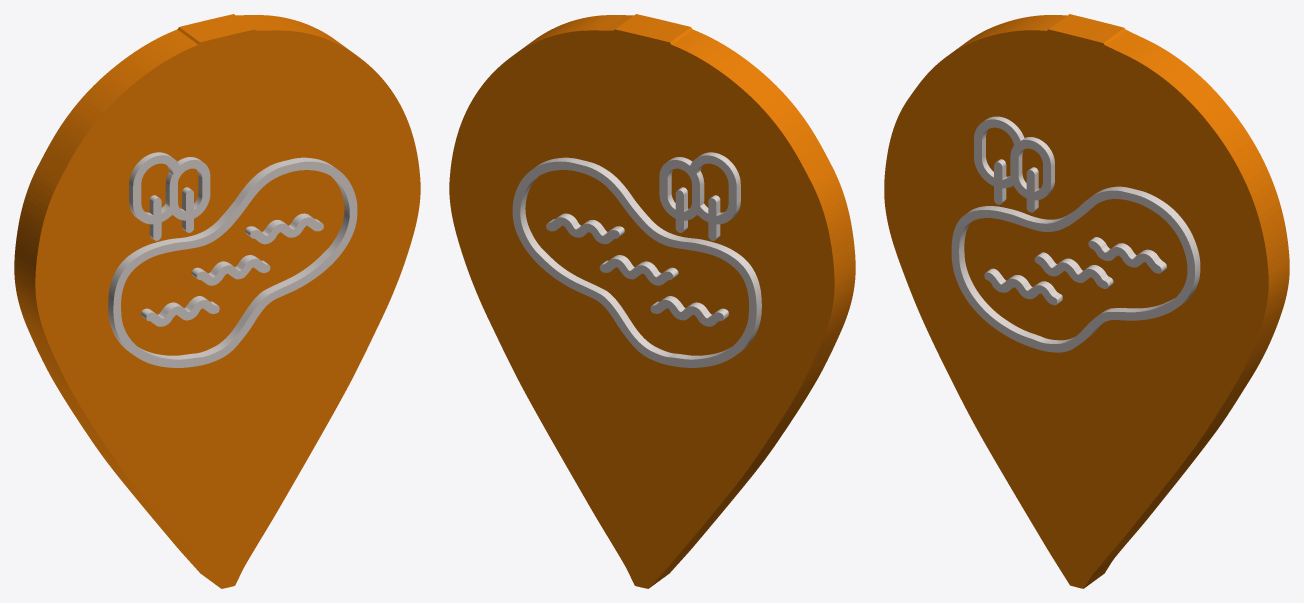
Rendered from lake.glb.
3 renders of one model, left to right at view 1: azimuth 30°, elevation 25°; view 2: azimuth 150°, elevation 25°; view 3: azimuth 330°, elevation 25°, orthographic.
Visible parts, largest first — view 1: Curve.002; view 2: Curve.002; view 3: Curve.002.
Boxes of the visible parts, <box> form: Curve.002: <box>14,14,420,588</box>; Curve.002: <box>449,14,855,588</box>; Curve.002: <box>884,14,1289,588</box>.
Bounding box in the file's own units: 5.28 × 7.22 × 0.7503.
